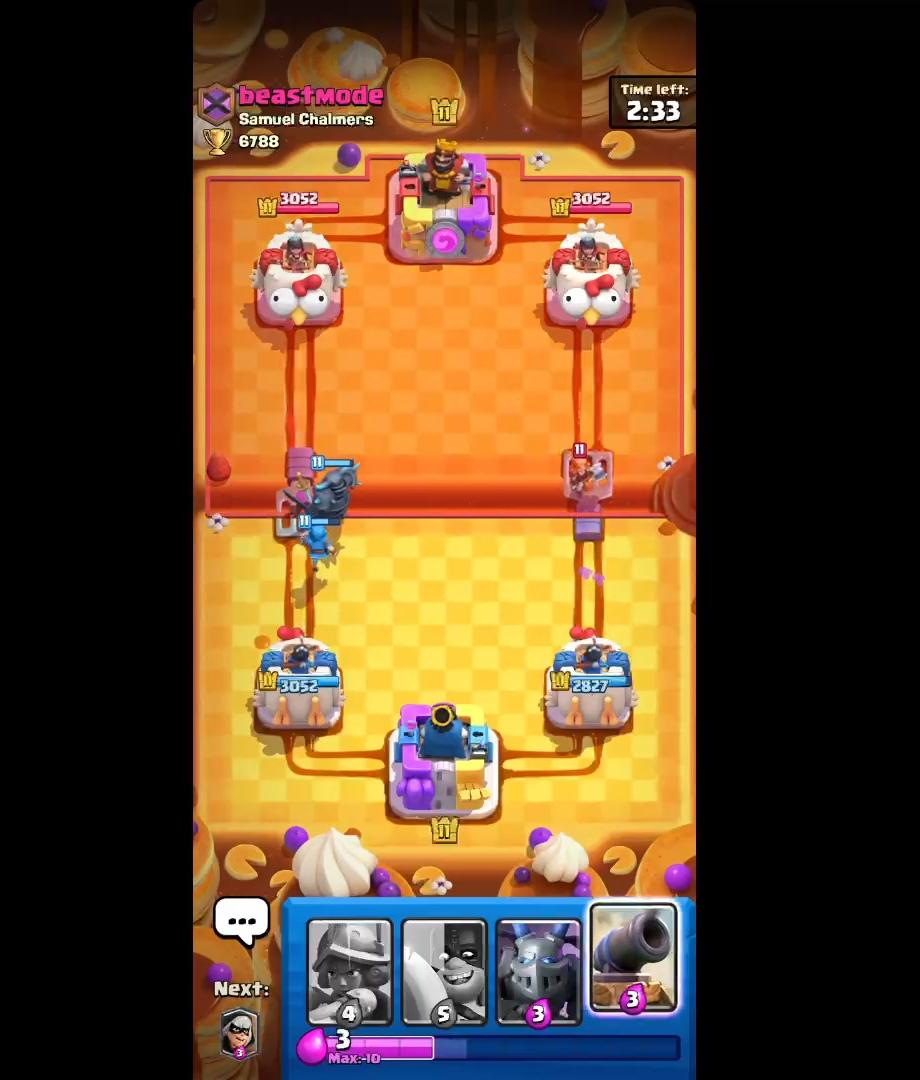Valkyrie: (564, 440, 609, 503)
